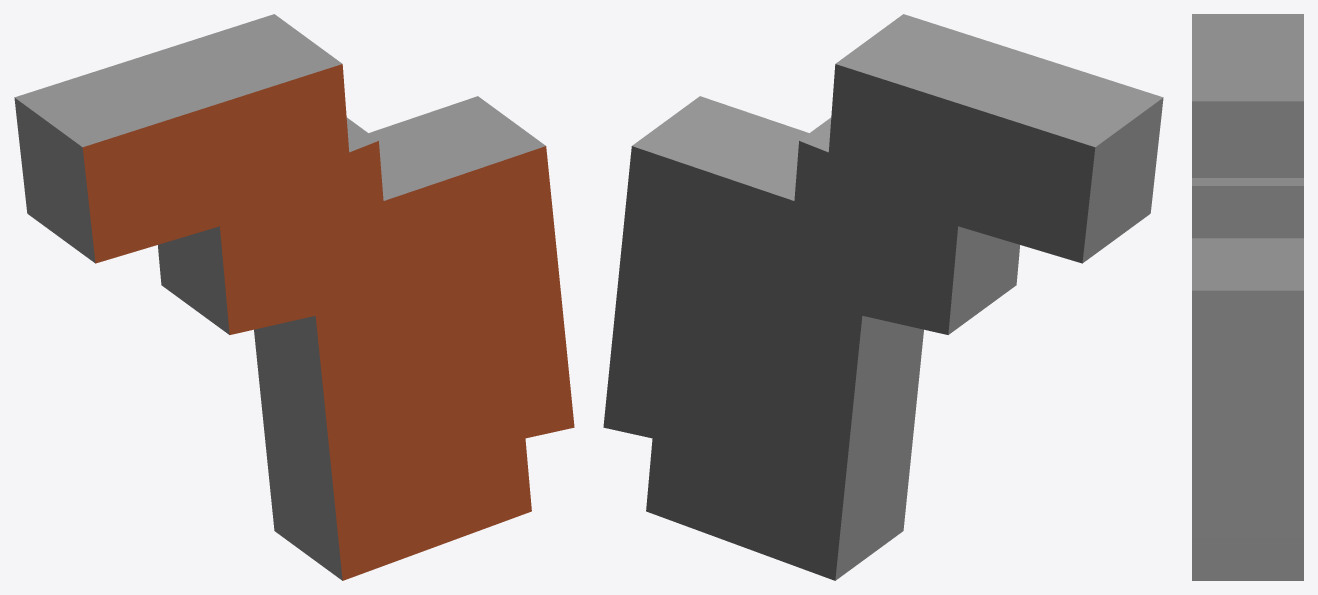
Rendered from construction_1481_assumed_A_Casa_h6m.obj.
3 renders of one model, left to right at view 1: azimuth 30°, elevation 25°; view 2: azimuth 150°, elevation 25°; view 3: azimuth 270°, elevation 25°, orthographic. The views are drawn at different scales.
Parts seen in each view (by area): view 1: construction_1481_assumed_A_Casa; view 2: construction_1481_assumed_A_Casa; view 3: construction_1481_assumed_A_Casa.
Part boxes in pixels (x1,y1,x2,y2): construction_1481_assumed_A_Casa: (14,14,574,580); construction_1481_assumed_A_Casa: (603,14,1163,580); construction_1481_assumed_A_Casa: (1192,14,1303,580).
Size of the model in its own units: 24.97 by 25.08 by 6.
